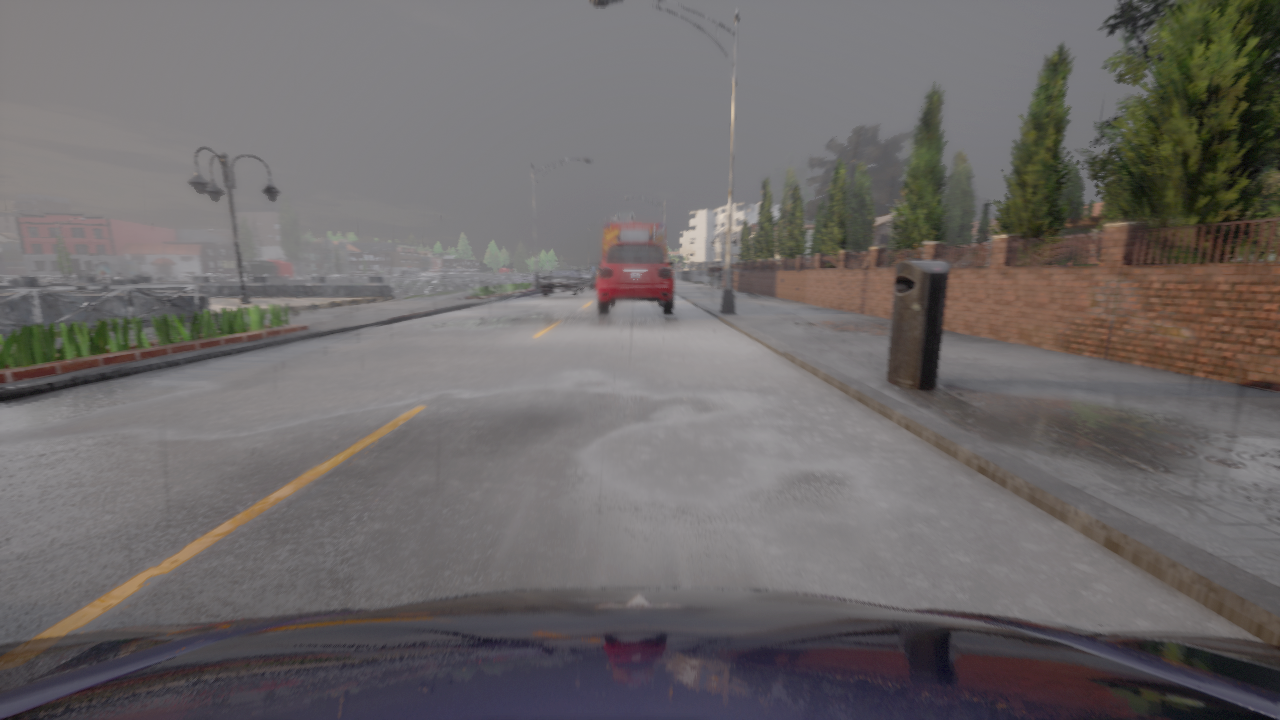cyclist: (0, 588, 1279, 719), (598, 242, 673, 314), (603, 213, 666, 260), (540, 269, 585, 296), (576, 269, 596, 290)
pedestrian: (714, 261, 723, 290), (708, 262, 714, 288)
